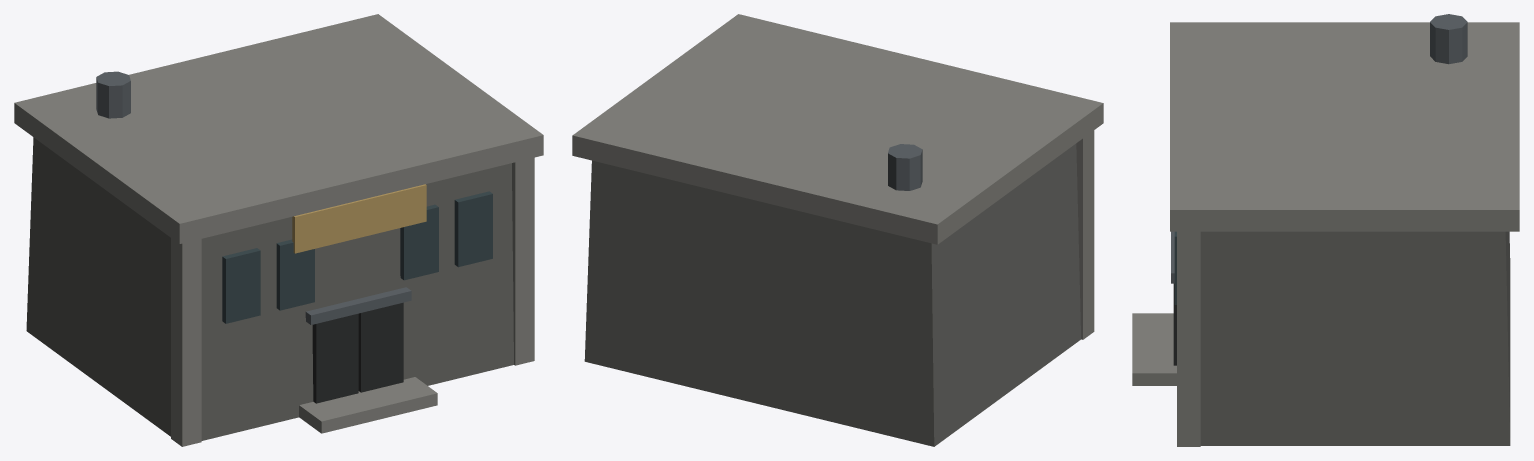
The model's file is town_hall.glb.
The picture shows the model from 3 angles, left to right: view 1: azimuth 30°, elevation 25°; view 2: azimuth 150°, elevation 25°; view 3: azimuth 270°, elevation 25°; orthographic projection. The views are drawn at different scales.
Visible parts, largest first — view 1: parapet, body, pilaster0, sign, pilaster1, steps, doorL, doorR, win0, win3, win1, win2 (+2 smaller); view 2: body, parapet, pilaster0, vent; view 3: parapet, body, pilaster1, steps, vent.
Part boxes in pixels (x1,y1,x2,y2): parapet: (14,14,543,243); body: (26,137,513,440); pilaster0: (171,238,201,446); sign: (292,184,426,253); pilaster1: (512,157,534,365); steps: (299,377,437,433); doorL: (312,313,358,403); doorR: (358,302,403,392); win0: (222,248,260,323); win3: (454,191,492,267); win1: (276,239,314,310); win2: (400,204,438,280); body: (584,143,1080,446); parapet: (572,14,1103,244); pilaster0: (1076,130,1094,339); vent: (888,144,922,190); parapet: (1170,22,1519,231); body: (1200,231,1510,445); pilaster1: (1177,231,1200,446); steps: (1132,313,1176,385); vent: (1430,14,1467,64).
Bounding box in the file's own units: 9.4 × 6.4 × 8.2.
